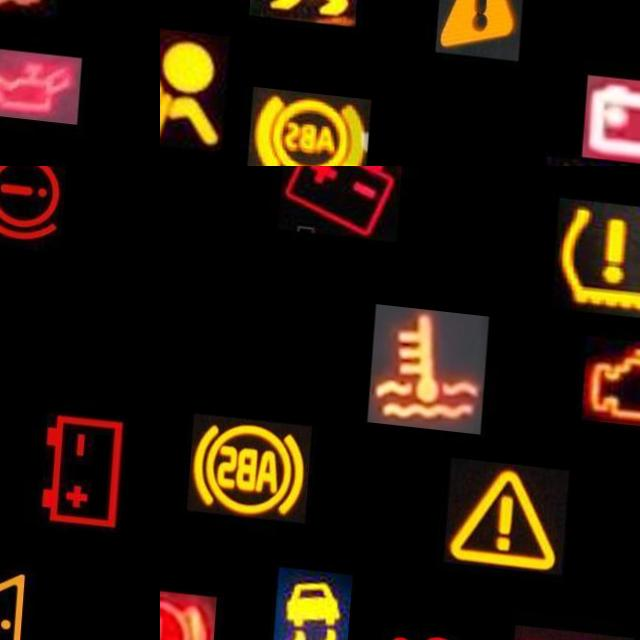Central Warning lamp: (451, 448, 575, 564), (441, 0, 531, 51)
Engine cooling system: (373, 297, 492, 425)
